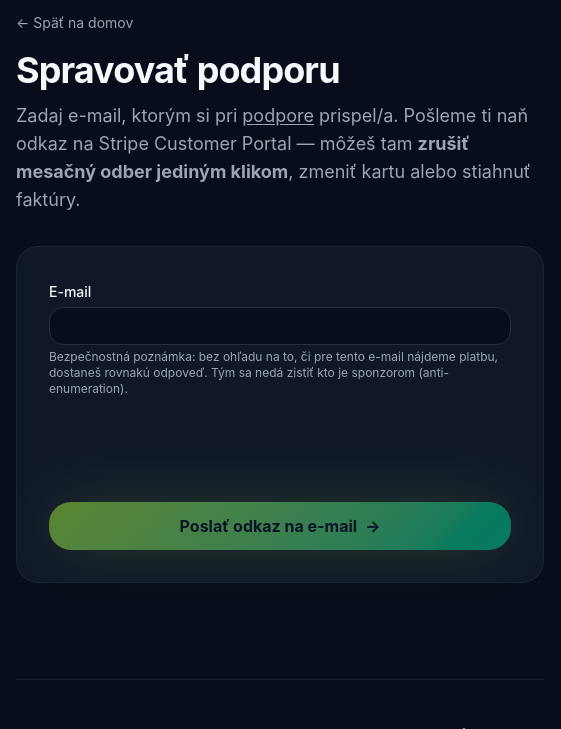
Test case: ManageSupportForm (/spravovat-podporu) › disables submit until a plausible e-mail is entered
Check: the button "Poslať odkaz na e-mail →" is disabled, box [49, 502, 511, 550]
Type "not-an-email" into the field labelled "E-mail" at (280, 326), box [49, 307, 511, 345]
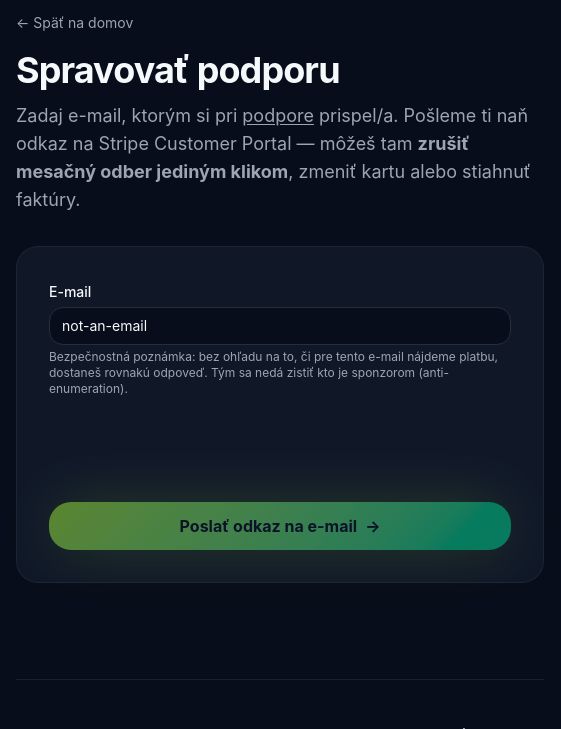
Check: the button "Poslať odkaz na e-mail →" is disabled, box [49, 502, 511, 550]
Replace the text in the field labelled "E-mail" with "anna@example.test" at (280, 326), box [49, 307, 511, 345]
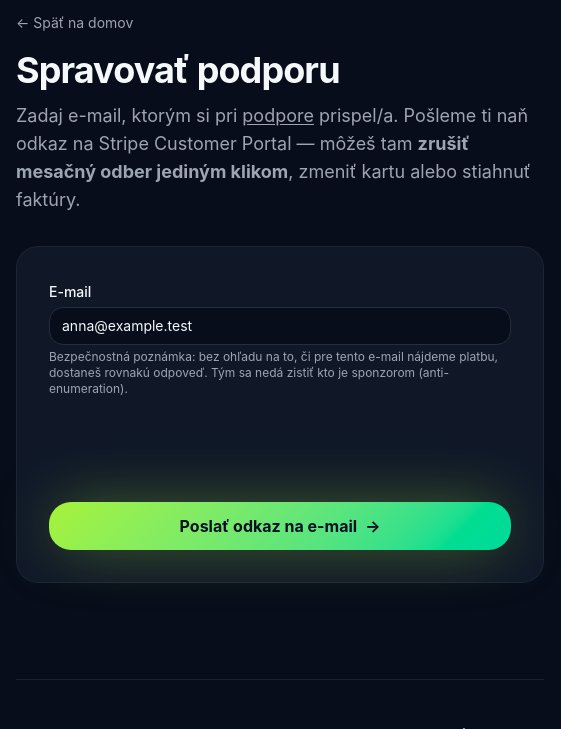
Check: the button "Poslať odkaz na e-mail →" is enabled, box [49, 502, 511, 550]
